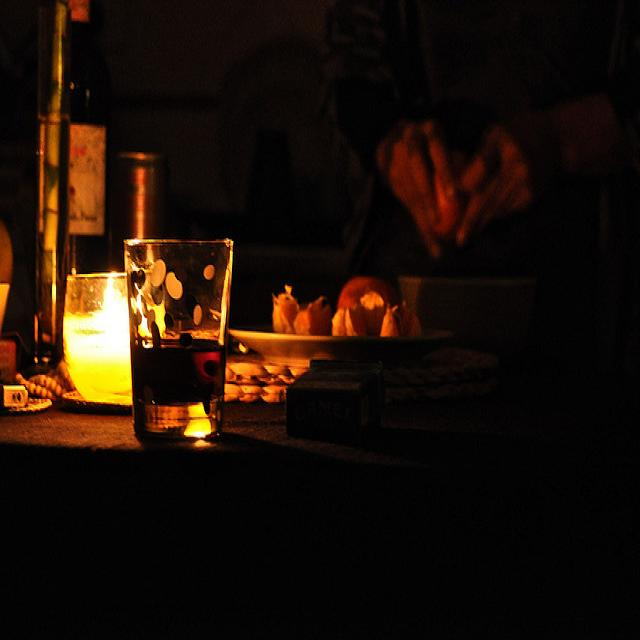Bottle: (6, 2, 94, 338)
Cup: (120, 210, 245, 454), (59, 253, 146, 417)
People: (325, 0, 640, 274)
Table: (0, 275, 640, 640)
